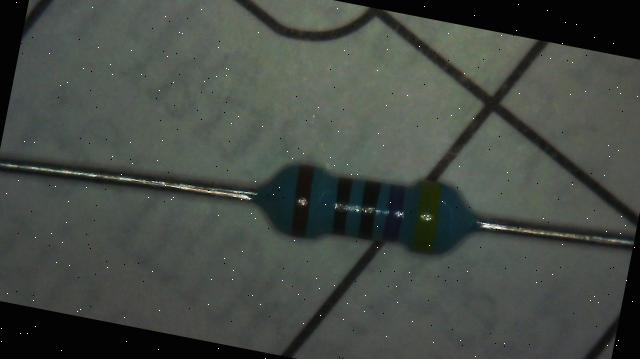black: (328, 176, 355, 234), (355, 180, 382, 238)
brown: (286, 164, 319, 238)
resistor: (248, 131, 495, 280)
violet: (380, 184, 408, 241)
yellow: (408, 178, 447, 254)
